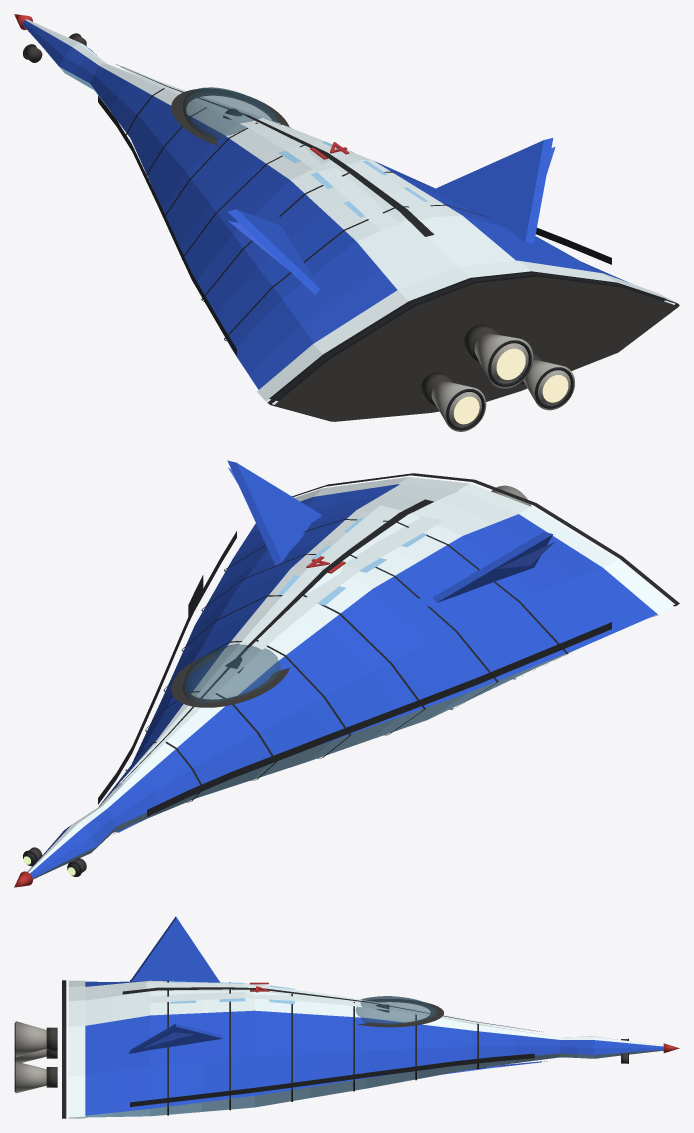
Rendered from Ship_PyramidLifter_290115.glb.
3 renders of one model, top to bottom at view 1: azimuth 30°, elevation 25°; view 2: azimuth 150°, elevation 25°; view 3: azimuth 270°, elevation 25°, orthographic. The views are drawn at different scales.
Visible parts, largest first — view 1: Fuselage_MainPyramidalLiftingBody, EngineDeck_AftFacetedDarkMountPlate, TailFin_Right_ShortCantedStabilizer, PaintDorsalSplit_PrimaryCentralArmor, EngineDeck_AftOuterArmorCollar, CanopyGlass_LowInsetSmokedDome, Nose_FacetedRamNeedle, TailFin_Left_ShortCantedStabilizer, EngineEmitter, CanopyFrame_LowInsetArmoredOvalRim, EngineDeck_AftDarkCompressionSeal, EngineBell_CenterUpper_BurnishedNozzle (+4 smaller); view 2: Fuselage_MainPyramidalLiftingBody, PaintDorsalSplit_PrimaryCentralArmor, EngineDeck_AftOuterArmorCollar, CanopyGlass_LowInsetSmokedDome, TailFin_Right_ShortCantedStabilizer, SideChinePanel_Left_LongDarkArmorJoint, Nose_FacetedRamNeedle, TailFin_Left_ShortCantedStabilizer, CanopyFrame_LowInsetArmoredOvalRim, HullLongitudinalSeam_DorsalRidgeDarkLine, EngineDeck_AftDarkCompressionSeal, SideChinePanel_Right_LongDarkArmorJoint; view 3: Fuselage_MainPyramidalLiftingBody, PaintDorsalSplit_PrimaryCentralArmor, TailFin_Left_ShortCantedStabilizer, EngineDeck_AftOuterArmorCollar, SideChinePanel_Right_LongDarkArmorJoint, CanopyGlass_LowInsetSmokedDome, Nose_FacetedRamNeedle, TailFin_Right_ShortCantedStabilizer, EngineBell_CenterUpper_BurnishedNozzle, HullLongitudinalSeam_DorsalRidgeDarkLine, EngineBell_RightLower_BurnishedNozzle, CanopyFrame_LowInsetArmoredOvalRim (+1 smaller).
Part boxes in pixels (left/top/right/bottom): Fuselage_MainPyramidalLiftingBody: left=90, top=63, right=666, bottom=401; EngineDeck_AftFacetedDarkMountPlate: left=274, top=276, right=678, bottom=421; TailFin_Right_ShortCantedStabilizer: left=431, top=138, right=553, bottom=243; PaintDorsalSplit_PrimaryCentralArmor: left=119, top=66, right=443, bottom=230; EngineDeck_AftOuterArmorCollar: left=257, top=260, right=674, bottom=403; CanopyGlass_LowInsetSmokedDome: left=182, top=87, right=280, bottom=140; Nose_FacetedRamNeedle: left=22, top=19, right=106, bottom=89; TailFin_Left_ShortCantedStabilizer: left=227, top=209, right=319, bottom=295; EngineEmitter: left=453, top=348, right=568, bottom=424; CanopyFrame_LowInsetArmoredOvalRim: left=171, top=89, right=289, bottom=145; EngineDeck_AftDarkCompressionSeal: left=267, top=272, right=679, bottom=421; EngineBell_CenterUpper_BurnishedNozzle: left=474, top=333, right=533, bottom=388; Fuselage_MainPyramidalLiftingBody: left=99, top=484, right=657, bottom=832; PaintDorsalSplit_PrimaryCentralArmor: left=119, top=505, right=443, bottom=783; EngineDeck_AftOuterArmorCollar: left=294, top=477, right=674, bottom=618; CanopyGlass_LowInsetSmokedDome: left=182, top=643, right=280, bottom=702; TailFin_Right_ShortCantedStabilizer: left=227, top=460, right=321, bottom=565; SideChinePanel_Left_LongDarkArmorJoint: left=147, top=622, right=611, bottom=816; Nose_FacetedRamNeedle: left=27, top=806, right=116, bottom=879; TailFin_Left_ShortCantedStabilizer: left=433, top=532, right=553, bottom=602; CanopyFrame_LowInsetArmoredOvalRim: left=171, top=651, right=289, bottom=707; HullLongitudinalSeam_DorsalRidgeDarkLine: left=115, top=499, right=433, bottom=788; EngineDeck_AftDarkCompressionSeal: left=292, top=473, right=679, bottom=606; SideChinePanel_Right_LongDarkArmorJoint: left=98, top=531, right=236, bottom=804; Fuselage_MainPyramidalLiftingBody: left=85, top=980, right=560, bottom=1117; PaintDorsalSplit_PrimaryCentralArmor: left=146, top=982, right=536, bottom=1031; TailFin_Left_ShortCantedStabilizer: left=130, top=916, right=219, bottom=982; EngineDeck_AftOuterArmorCollar: left=68, top=980, right=85, bottom=1118; SideChinePanel_Right_LongDarkArmorJoint: left=130, top=1053, right=534, bottom=1106; CanopyGlass_LowInsetSmokedDome: left=355, top=996, right=436, bottom=1024; Nose_FacetedRamNeedle: left=560, top=1036, right=663, bottom=1058; TailFin_Right_ShortCantedStabilizer: left=129, top=1023, right=222, bottom=1053; EngineBell_CenterUpper_BurnishedNozzle: left=15, top=1021, right=46, bottom=1057; HullLongitudinalSeam_DorsalRidgeDarkLine: left=122, top=987, right=541, bottom=1031; EngineBell_RightLower_BurnishedNozzle: left=15, top=1061, right=46, bottom=1093; CanopyFrame_LowInsetArmoredOvalRim: left=357, top=999, right=443, bottom=1027.
Size of the model in its own units: 3.5 by 1.5 by 7.36.
